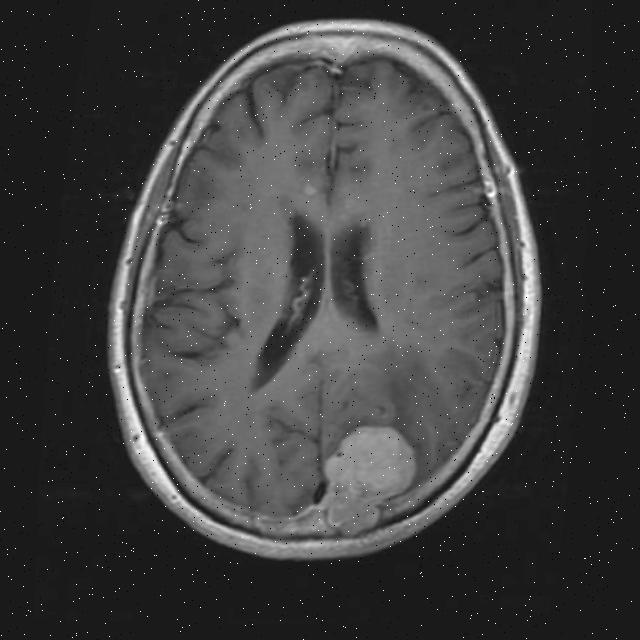Meningioma: (314, 418, 422, 538)
